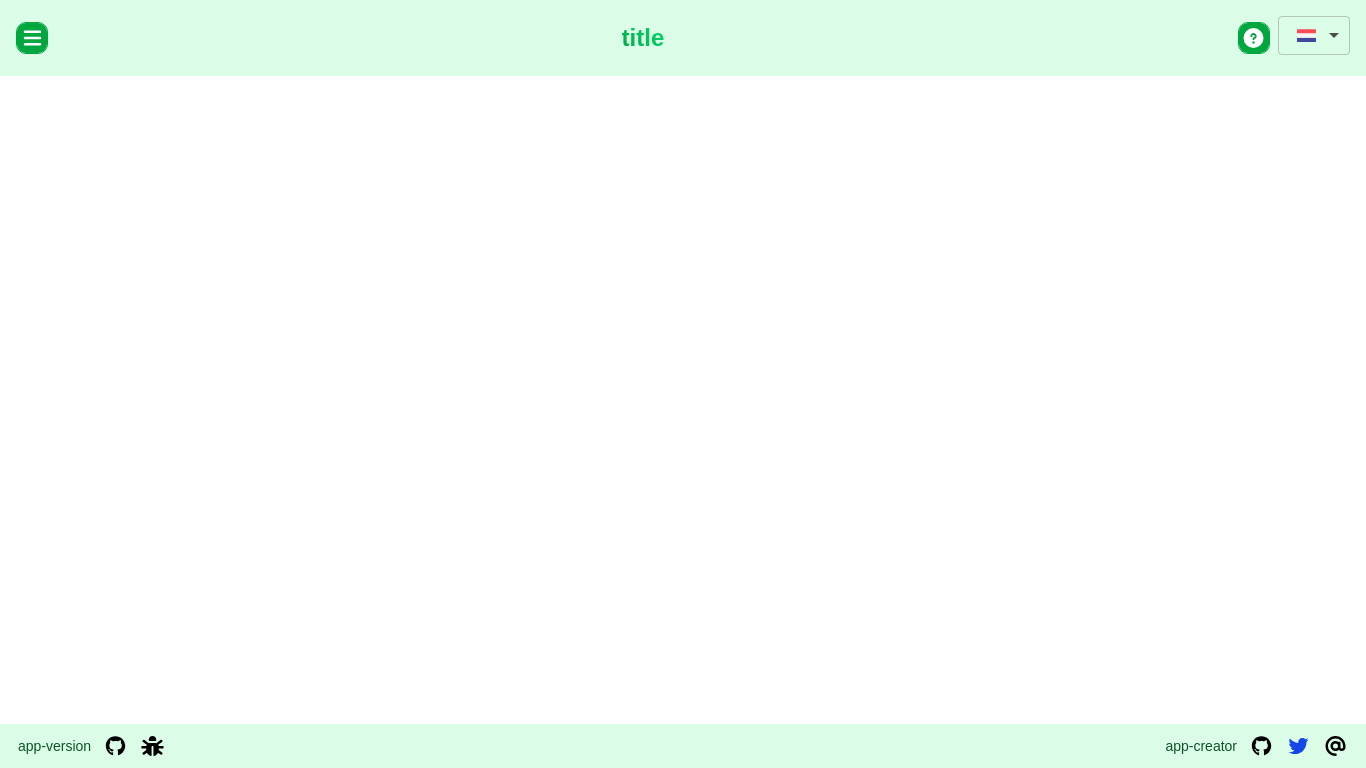
Scenario: Layout › opening help from the header renders drawer content routed through HelpDrawerProvider
Click the button named "help" at (1254, 38), box [1238,22,1270,54]
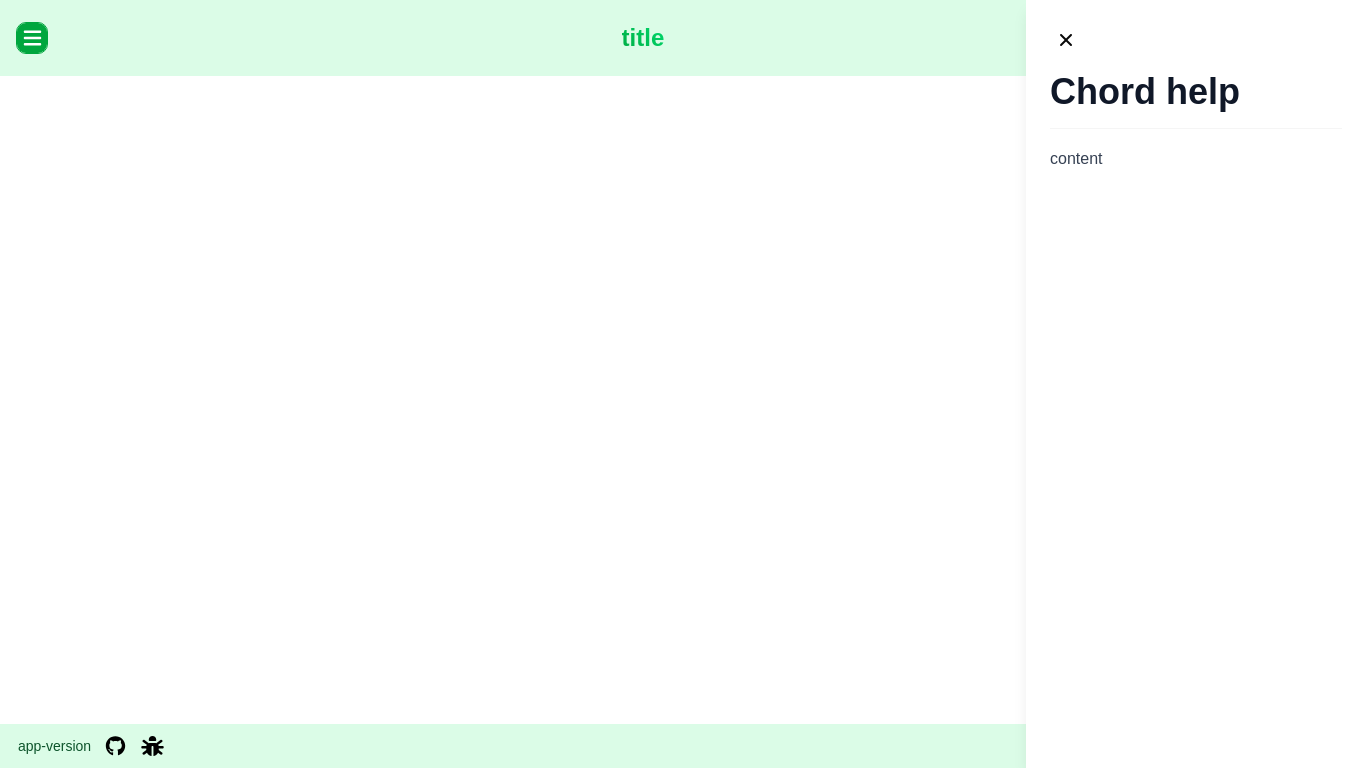
Check: the heading "Chord help" is shown, box [1050,71,1240,112]
